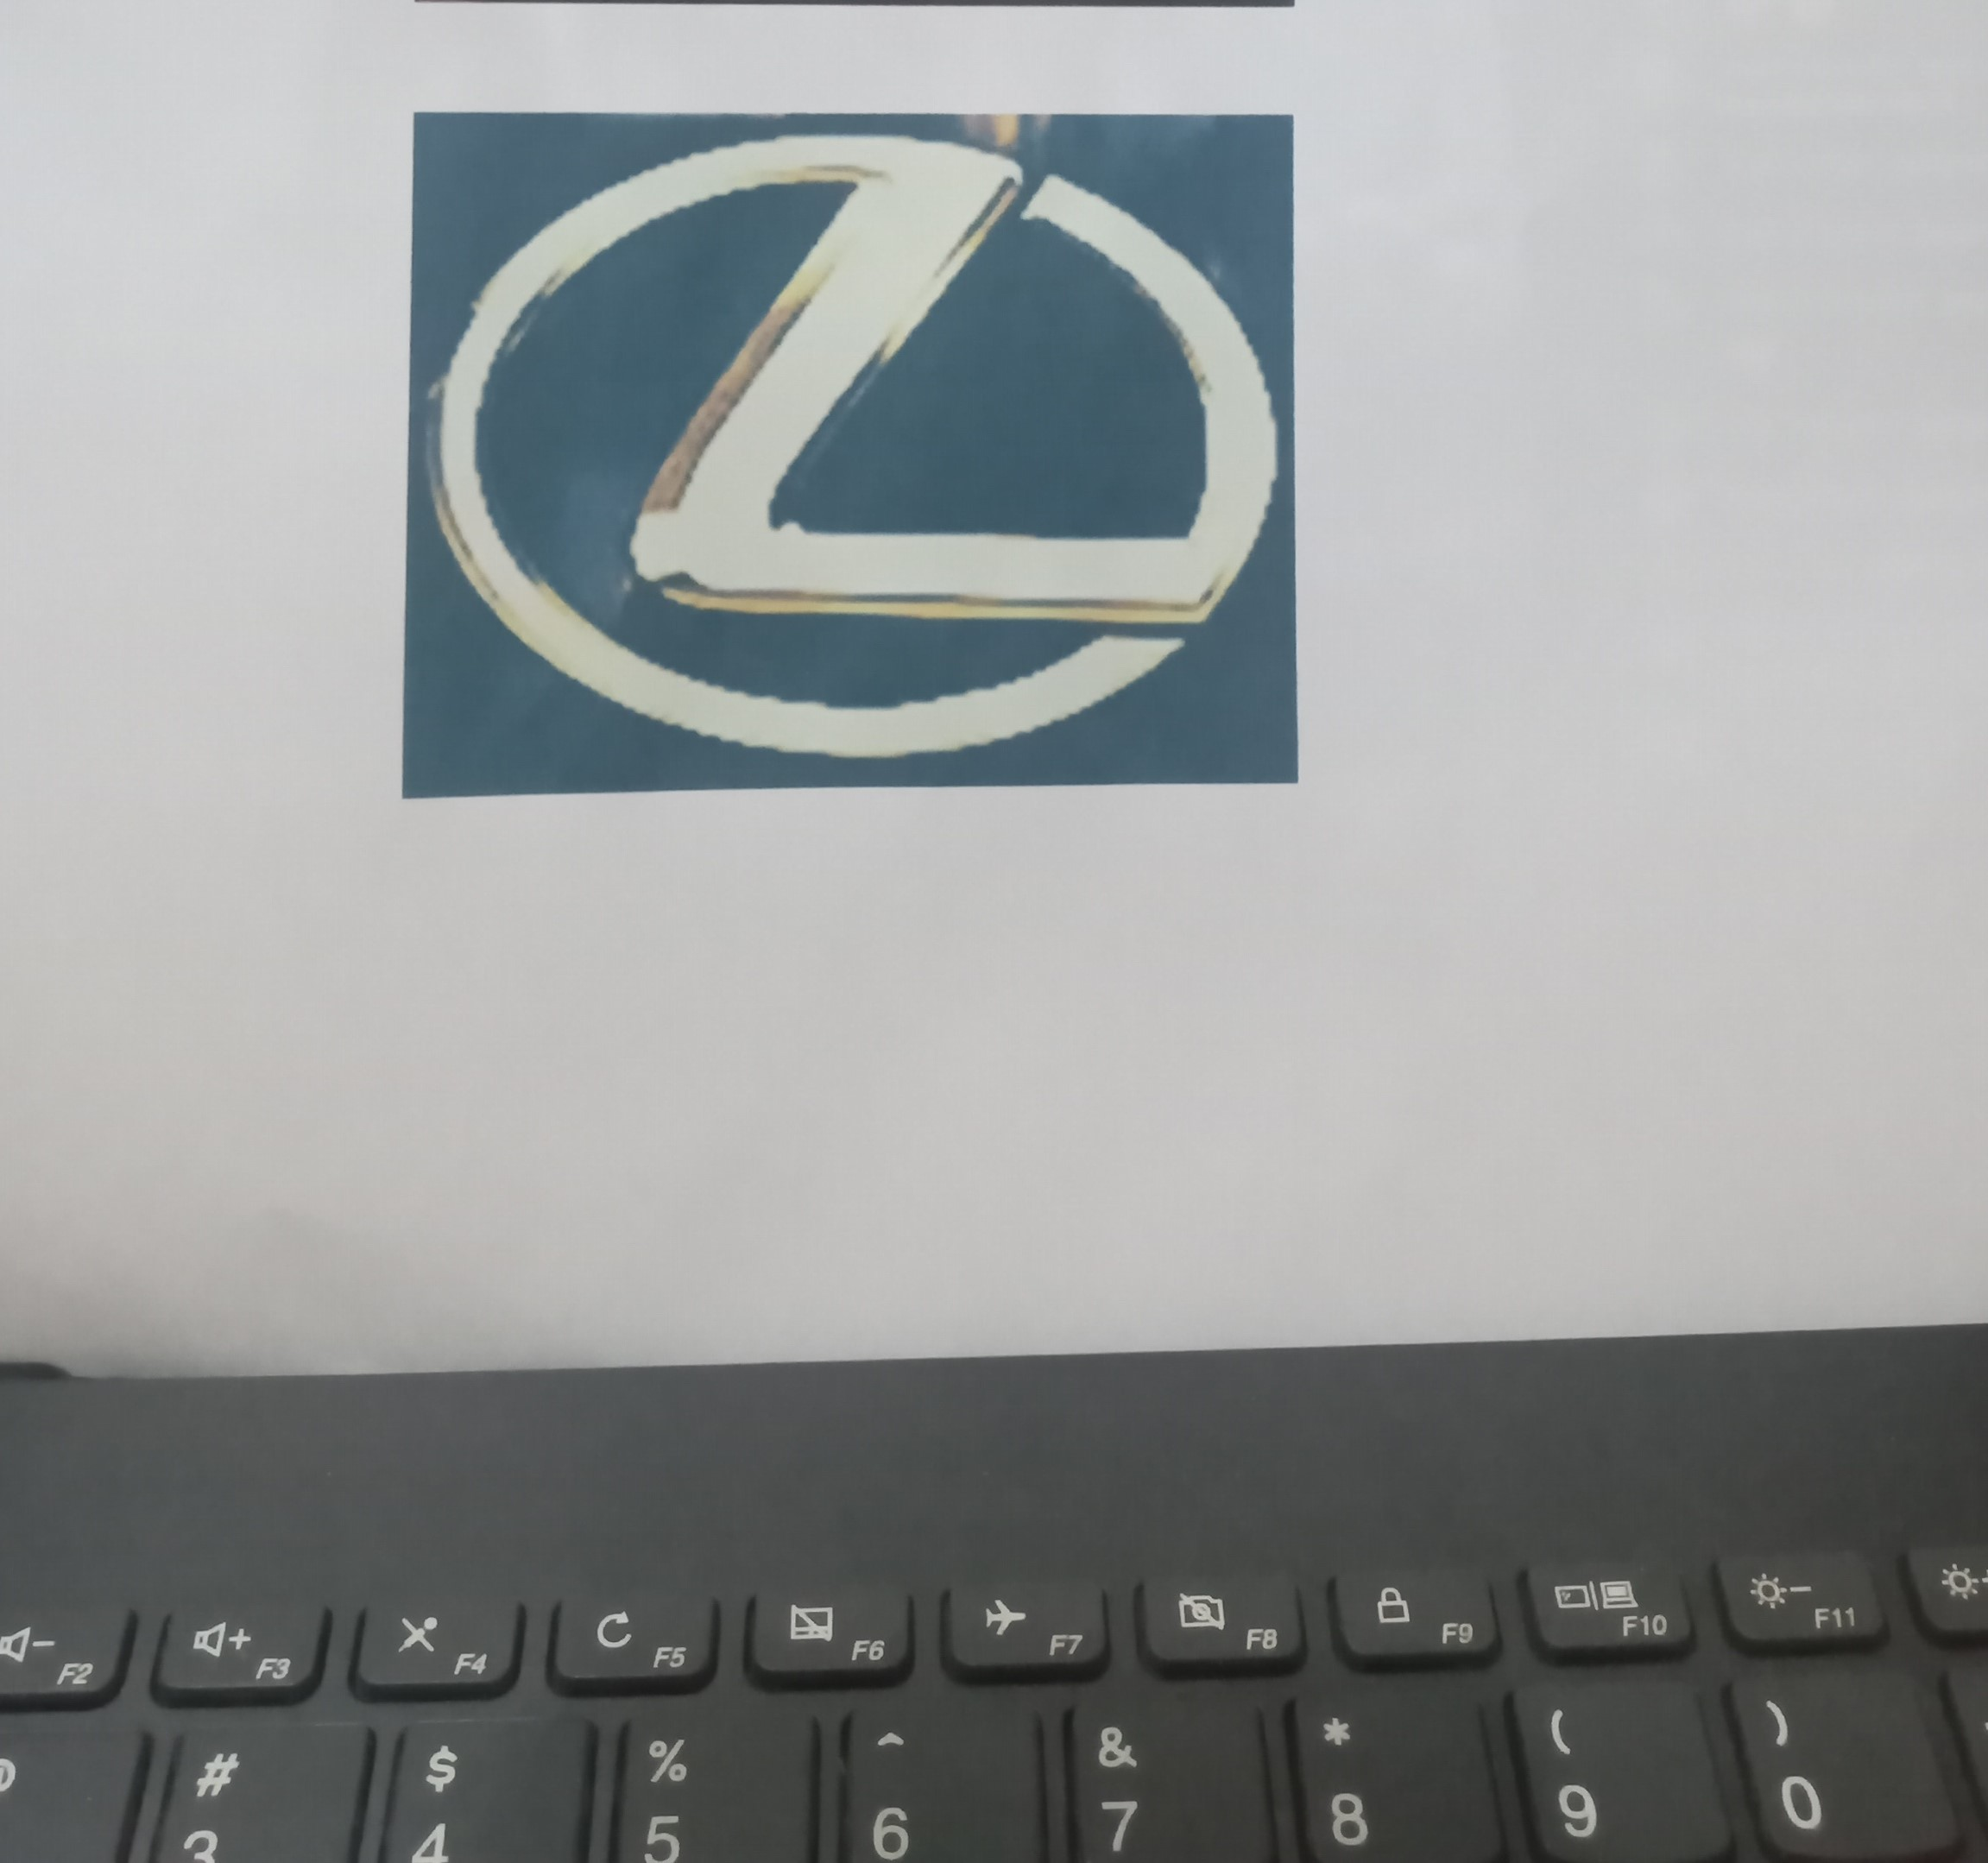Lexus: (416, 109, 1307, 769)
